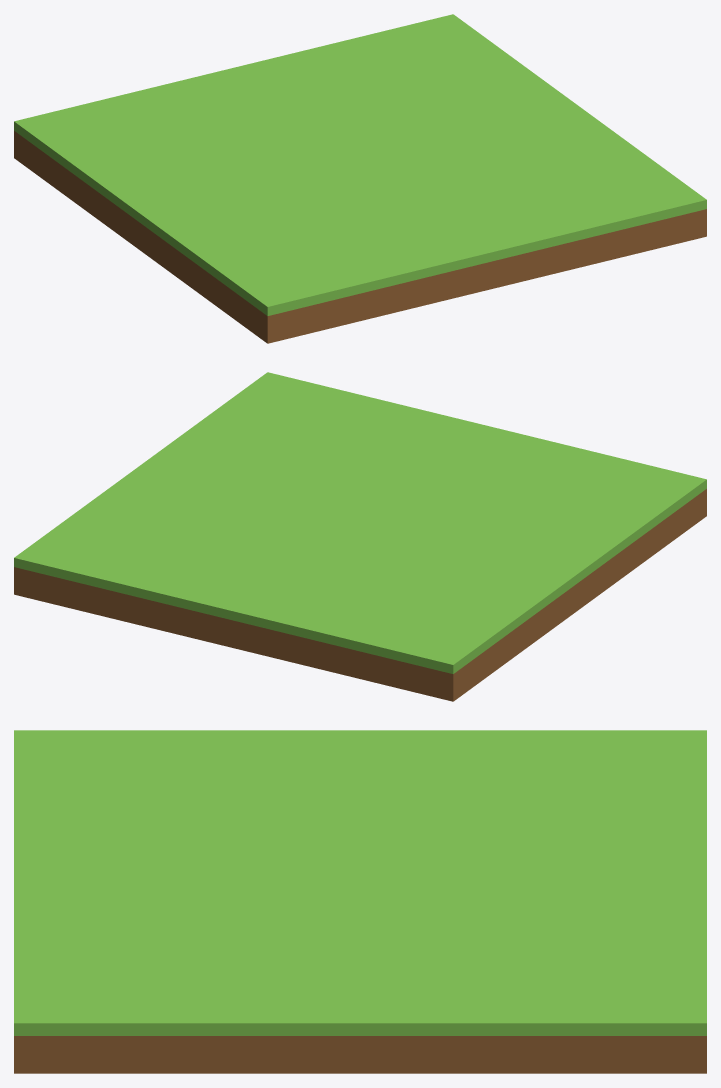
File: grass_b.glb
3 views of the same model, one above another, from view 1: azimuth 30°, elevation 25°; view 2: azimuth 150°, elevation 25°; view 3: azimuth 270°, elevation 25° (orthographic). The views are drawn at different scales.
Parts seen in each view (by area): view 1: model_0; view 2: model_0; view 3: model_0.
Boxes of the visible parts, left/top/right/bottom form: model_0: left=14, top=14, right=706, bottom=343; model_0: left=14, top=372, right=706, bottom=701; model_0: left=14, top=730, right=706, bottom=1073.
Size of the model in its own units: 2 by 0.16 by 2.
